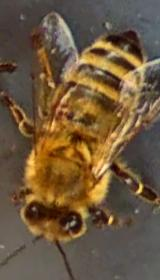varroa_mite: (45, 98, 75, 122)
